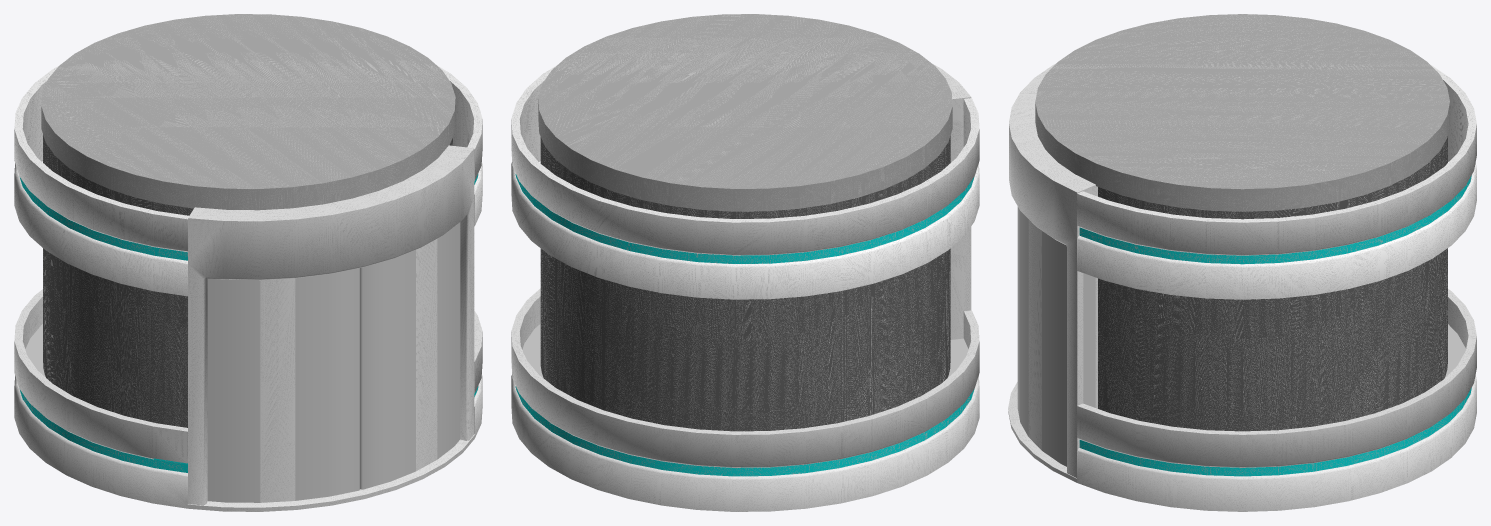
The model's file is Lower_poly.fbx.
The picture shows the model from 3 angles, left to right: view 1: azimuth 30°, elevation 25°; view 2: azimuth 150°, elevation 25°; view 3: azimuth 270°, elevation 25°; orthographic projection.
Parts seen in each view (by area): view 1: ID194, ID164, ID143.001, ID194.001, ID276, ID134.001, ID284, ID164.001, ID143, ID276.001, ID284.001, ID134 (+3 smaller); view 2: ID194, ID276, ID164, ID284, ID194.001, ID276.001, ID164.001, ID284.001, ID4, ID28, ID28.001, ID174 (+1 smaller); view 3: ID194, ID276, ID164, ID284, ID194.001, ID276.001, ID164.001, ID134.001, ID284.001, ID4, ID28, ID134 (+3 smaller).
Boxes of the visible parts, bbox=[...] form: ID194: bbox=[41, 14, 455, 210]; ID164: bbox=[14, 145, 482, 511]; ID143.001: bbox=[207, 268, 359, 502]; ID194.001: bbox=[41, 14, 454, 209]; ID276: bbox=[43, 135, 452, 427]; ID134.001: bbox=[360, 222, 460, 489]; ID284: bbox=[14, 65, 482, 296]; ID164.001: bbox=[14, 145, 482, 511]; ID143: bbox=[260, 278, 295, 502]; ID276.001: bbox=[43, 141, 452, 427]; ID284.001: bbox=[14, 68, 482, 296]; ID134: bbox=[416, 239, 437, 470]; ID194: bbox=[538, 14, 952, 211]; ID276: bbox=[540, 136, 950, 431]; ID164: bbox=[511, 64, 979, 511]; ID284: bbox=[511, 65, 979, 299]; ID194.001: bbox=[538, 14, 952, 211]; ID276.001: bbox=[540, 142, 950, 431]; ID164.001: bbox=[511, 65, 979, 511]; ID284.001: bbox=[511, 68, 979, 299]; ID4: bbox=[515, 386, 974, 476]; ID28: bbox=[515, 174, 974, 263]; ID28.001: bbox=[520, 182, 971, 263]; ID174: bbox=[522, 324, 968, 377]; ID194: bbox=[1035, 14, 1449, 211]; ID276: bbox=[1098, 136, 1447, 431]; ID164: bbox=[1008, 63, 1476, 511]; ID284: bbox=[1077, 65, 1476, 299]; ID194.001: bbox=[1035, 14, 1449, 211]; ID276.001: bbox=[1098, 143, 1447, 430]; ID164.001: bbox=[1008, 68, 1476, 511]; ID134.001: bbox=[1017, 206, 1095, 466]; ID284.001: bbox=[1077, 70, 1476, 299]; ID4: bbox=[1079, 387, 1471, 476]; ID28: bbox=[1079, 175, 1471, 264]; ID134: bbox=[1028, 219, 1041, 450].
Bounding box in the file's own units: 1726 × 1266 × 1727.
